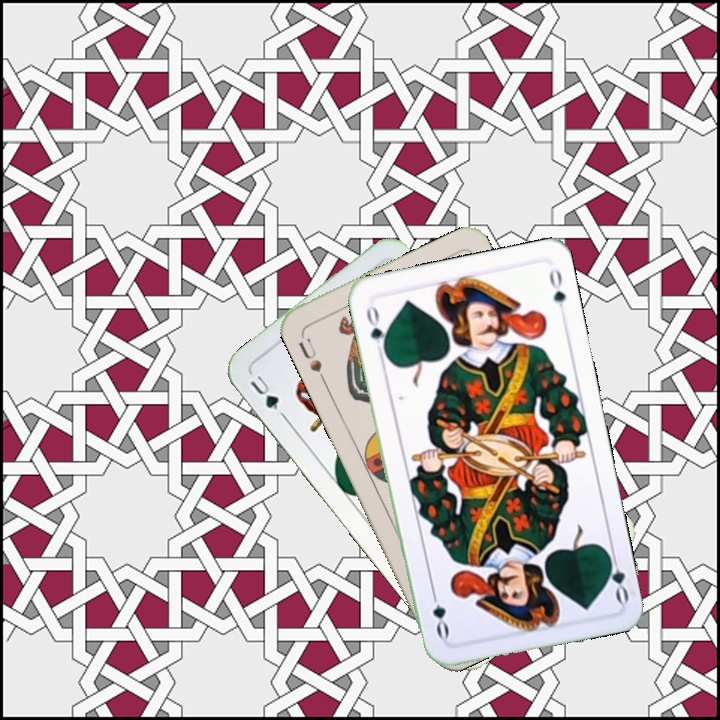GO: (602, 546, 632, 606), (362, 300, 390, 359)
GU: (246, 369, 288, 420)
SU: (294, 334, 329, 385)
